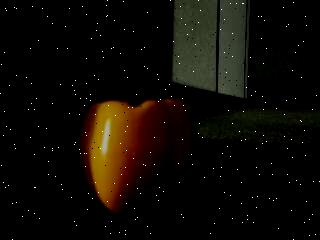Capsicum: (77, 74, 199, 219)
